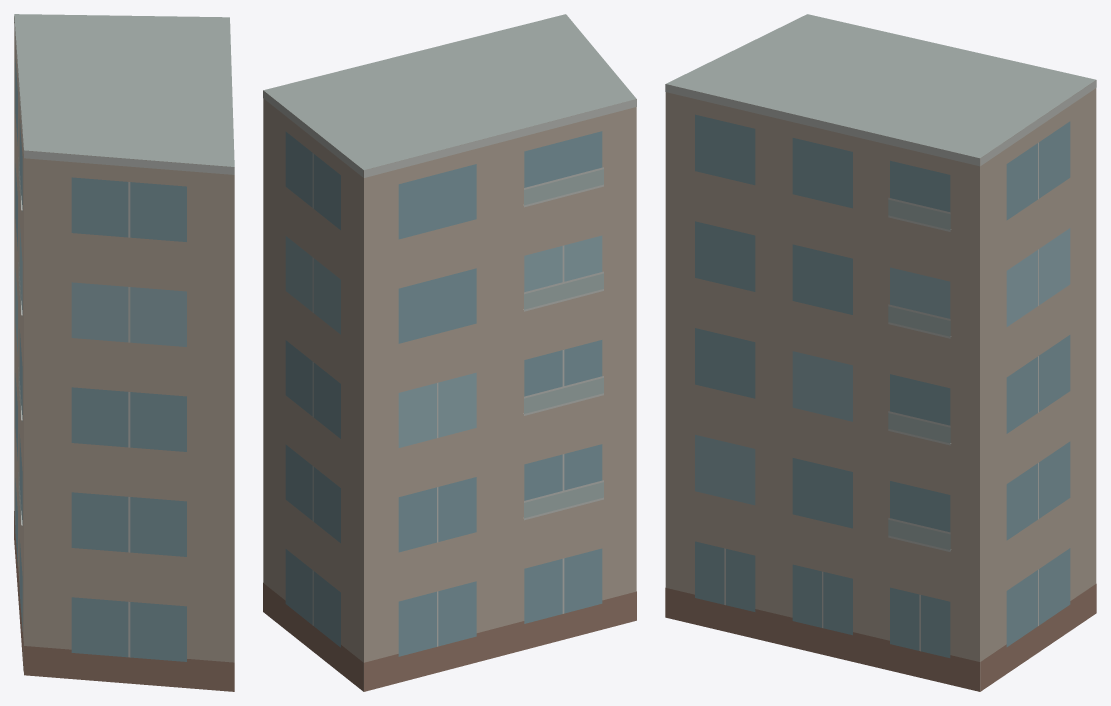
Rendered from survey-upis-32662104.glb.
3 views of the same model, side by side, from view 1: azimuth 30°, elevation 25°; view 2: azimuth 150°, elevation 25°; view 3: azimuth 270°, elevation 25° (orthographic). The views are drawn at different scales.
Parts seen in each view (by area): view 1: survey-upis-32662104.tmp; view 2: survey-upis-32662104.tmp; view 3: survey-upis-32662104.tmp.
Part boxes in pixels (x1,y1,x2,y2): survey-upis-32662104.tmp: (14,14,234,691); survey-upis-32662104.tmp: (263,14,636,691); survey-upis-32662104.tmp: (665,14,1096,691).
Bounding box in the file's own units: 9.38 × 16.15 × 11.83.
